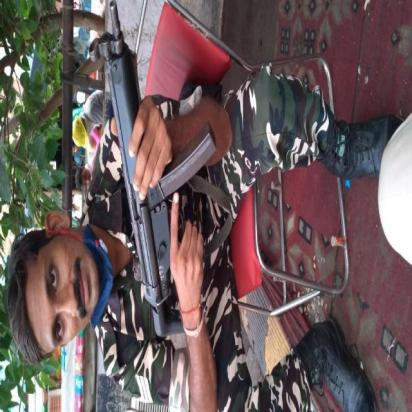Gun: (87, 0, 218, 342)
